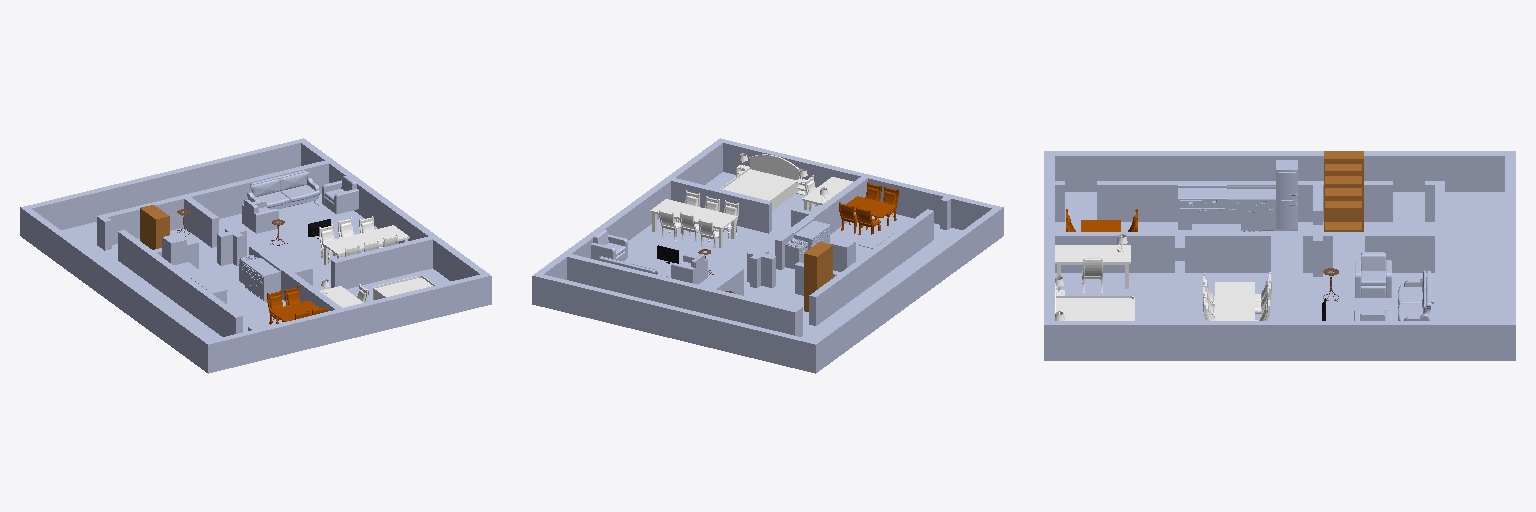
robot.urdf — robocup_at_home_2014_forniture:
<robot
  name="robocup_at_home_2014_forniture">
  <link
    name="floor">
    <inertial>
      <origin
        xyz="0.162043521989853 -0.824999999999998 -0.0005"
        rpy="0 0 0" />
      <mass
        value="12000" />
      <inertia
        ixx="0"
        ixy="0"
        ixz="0"
        iyy="0"
        iyz="0"
        izz="0" />
    </inertial>
    <visual>
      <origin
        xyz="0 0 0"
        rpy="0 0 0" />
      <geometry>
        <mesh
          filename="package://worlds/meshes/floor.STL" />
      </geometry>
      <material
        name="">
        <color
          rgba="0.792156862745098 0.819607843137255 0.933333333333333 0" />
      </material>
    </visual>
    <collision>
      <origin
        xyz="0 0 0"
        rpy="0 0 0" />
      <geometry>
        <mesh
          filename="package://worlds/meshes/floor.STL" />
      </geometry>
    </collision>
  </link>
  <link
    name="walls">
    <inertial>
      <origin
        xyz="4.93251874021475 5.98231263855175 0.75"
        rpy="0 0 0" />
      <mass
        value="18362.2494257509" />
      <inertia
        ixx="1338.4230925041"
        ixy="-4795.96538021434"
        ixz="7.40347261069131E-13"
        iyy="21543.3237199441"
        iyz="1.36168446424772E-13"
        izz="22881.7468124482" />
    </inertial>
    <visual>
      <origin
        xyz="0 0 0"
        rpy="0 0 0" />
      <geometry>
        <mesh
          filename="package://worlds/meshes/walls.STL" />
      </geometry>
      <material
        name="">
        <color
          rgba="0.792156862745098 0.819607843137255 0.933333333333333 1" />
      </material>
    </visual>
    <collision>
      <origin
        xyz="0 0 0"
        rpy="0 0 0" />
      <geometry>
        <mesh
          filename="package://worlds/meshes/walls.STL" />
      </geometry>
    </collision>
  </link>
  <joint
    name="floor_to_walls"
    type="fixed">
    <origin
      xyz="0 0 0"
      rpy="-6.12303176911189E-17 -6.64008986019832E-17 0" />
    <parent
      link="floor" />
    <child
      link="walls" />
    <axis
      xyz="1 0 0" />
  </joint>
  <link
    name="table_kitchen">
    <inertial>
      <origin
        xyz="-0.0148251556201719 -0.0640686794613408 -0.013499228338457"
        rpy="0 0 0" />
      <mass
        value="229.694621201452" />
      <inertia
        ixx="77.7870787047035"
        ixy="-0.00370438522750177"
        ixz="0.115529182972807"
        iyy="94.8341515366611"
        iyz="-0.0114715507568256"
        izz="17.7048609391701" />
    </inertial>
    <visual>
      <origin
        xyz="0 0 0"
        rpy="0 0 0" />
      <geometry>
        <mesh
          filename="package://worlds/meshes/table_kitchen.STL" />
      </geometry>
      <material
        name="">
        <color
          rgba="0.729411764705882 0.356862745098039 0.0235294117647059 1" />
      </material>
    </visual>
    <collision>
      <origin
        xyz="0 0 0"
        rpy="0 0 0" />
      <geometry>
        <mesh
          filename="package://worlds/meshes/table_kitchen.STL" />
      </geometry>
    </collision>
  </link>
  <joint
    name="floor_to_table_kitchen"
    type="fixed">
    <origin
      xyz="-0.949751438553686 -5.28564359643745 0.621914781542176"
      rpy="1.5707963267949 0 0" />
    <parent
      link="floor" />
    <child
      link="table_kitchen" />
    <axis
      xyz="0 0 0" />
  </joint>
  <link
    name="kitchen">
    <inertial>
      <origin
        xyz="-0.70574137773059 0.512853823238402 -0.398295405787052"
        rpy="0 0 0" />
      <mass
        value="508.116360033963" />
      <inertia
        ixx="18.3473653241423"
        ixy="15.0495179789158"
        ixz="3.19407612551288"
        iyy="193.036843322496"
        iyz="-2.15581101360925"
        izz="204.742938750507" />
    </inertial>
    <visual>
      <origin
        xyz="0 0 0"
        rpy="0 0 0" />
      <geometry>
        <mesh
          filename="package://worlds/meshes/kitchen.STL" />
      </geometry>
      <material
        name="">
        <color
          rgba="0.792156862745098 0.819607843137255 0.933333333333333 1" />
      </material>
    </visual>
    <collision>
      <origin
        xyz="0 0 0"
        rpy="0 0 0" />
      <geometry>
        <mesh
          filename="package://worlds/meshes/kitchen.STL" />
      </geometry>
    </collision>
  </link>
  <joint
    name="floor_to_kitchen"
    type="fixed">
    <origin
      xyz="-2.35702717025576 -1.53342788574626 0.00146961956425273"
      rpy="1.5707963267949 6.12303176911189E-17 1.5707963267949" />
    <parent
      link="floor" />
    <child
      link="kitchen" />
    <axis
      xyz="0 0 0" />
  </joint>
  <link
    name="stove">
    <inertial>
      <origin
        xyz="-0.125807232327899 -0.529341793231879 0.346909995659437"
        rpy="0 0 0" />
      <mass
        value="338.969953194765" />
      <inertia
        ixx="9.51826418454612"
        ixy="3.35338405492847"
        ixz="-0.0335039360347909"
        iyy="35.090364871207"
        iyz="-0.843421108291206"
        izz="41.2968594011225" />
    </inertial>
    <visual>
      <origin
        xyz="0 0 0"
        rpy="0 0 0" />
      <geometry>
        <mesh
          filename="package://worlds/meshes/stove.STL" />
      </geometry>
      <material
        name="">
        <color
          rgba="0.792156862745098 0.819607843137255 0.933333333333333 1" />
      </material>
    </visual>
    <collision>
      <origin
        xyz="0 0 0"
        rpy="0 0 0" />
      <geometry>
        <mesh
          filename="package://worlds/meshes/stove.STL" />
      </geometry>
    </collision>
  </link>
  <joint
    name="floor_to_stove"
    type="fixed">
    <origin
      xyz="-0.859599999999999 -2.41046162410305 0.00284738954239289"
      rpy="-1.5707963267949 -6.12303176911189E-17 -1.5707963267949" />
    <parent
      link="floor" />
    <child
      link="stove" />
    <axis
      xyz="0 0 0" />
  </joint>
  <link
    name="bed">
    <inertial>
      <origin
        xyz="-0.0389807110971674 1.24999110394613 0.217593235166563"
        rpy="0 0 0" />
      <mass
        value="1284.07012058501" />
      <inertia
        ixx="2.91492619765083"
        ixy="-0.0392165113524979"
        ixz="-0.67303084509106"
        iyy="1.94339388624748"
        iyz="0.00447094061786035"
        izz="4.21663857517505" />
    </inertial>
    <visual>
      <origin
        xyz="0 0 0"
        rpy="0 0 0" />
      <geometry>
        <mesh
          filename="package://worlds/meshes/bed.STL" />
      </geometry>
      <material
        name="">
        <color
          rgba="1 1 1 1" />
      </material>
    </visual>
    <collision>
      <origin
        xyz="0 0 0"
        rpy="0 0 0" />
      <geometry>
        <mesh
          filename="package://worlds/meshes/bed.STL" />
      </geometry>
    </collision>
  </link>
  <joint
    name="floor_to_bed"
    type="fixed">
    <origin
      xyz="1.86277830721022 -5.45 0.4"
      rpy="3.14159265358979 6.12303176911189E-17 1.5707963267949" />
    <parent
      link="floor" />
    <child
      link="bed" />
    <axis
      xyz="0 1 0" />
  </joint>
  <link
    name="table_bedroom">
    <inertial>
      <origin
        xyz="0.903070609212545 -0.347047940236761 0.0176116422857098"
        rpy="0 0 0" />
      <mass
        value="248.09387619041" />
      <inertia
        ixx="12.7756845132593"
        ixy="0.243026010790977"
        ixz="0.225587694636603"
        iyy="1.23517647716545"
        iyz="-2.66091129310497"
        izz="12.7078603768214" />
    </inertial>
    <visual>
      <origin
        xyz="0 0 0"
        rpy="0 0 0" />
      <geometry>
        <mesh
          filename="package://worlds/meshes/table_bedroom.STL" />
      </geometry>
      <material
        name="">
        <color
          rgba="1 1 1 1" />
      </material>
    </visual>
    <collision>
      <origin
        xyz="0 0 0"
        rpy="0 0 0" />
      <geometry>
        <mesh
          filename="package://worlds/meshes/table_bedroom.STL" />
      </geometry>
    </collision>
  </link>
  <joint
    name="floor_to_table_bedroom"
    type="fixed">
    <origin
      xyz="0.981628405693308 -6.39765151700287 0.660785811957398"
      rpy="3.14159265358979 6.12303176911189E-17 1.5707963267949" />
    <parent
      link="floor" />
    <child
      link="table_bedroom" />
    <axis
      xyz="0 0 0" />
  </joint>
  <link
    name="dining_table">
    <inertial>
      <origin
        xyz="0.594903997665842 0.0701325845541099 0.792631874101851"
        rpy="0 0 0" />
      <mass
        value="538.277321874631" />
      <inertia
        ixx="98.8235057164328"
        ixy="-3.18402560449321"
        ixz="1.61007607284375"
        iyy="195.756335265195"
        iyz="-1.93404161385332"
        izz="99.6542503652822" />
    </inertial>
    <visual>
      <origin
        xyz="0 0 0"
        rpy="0 0 0" />
      <geometry>
        <mesh
          filename="package://worlds/meshes/dining_table.STL" />
      </geometry>
      <material
        name="">
        <color
          rgba="1 1 1 1" />
      </material>
    </visual>
    <collision>
      <origin
        xyz="0 0 0"
        rpy="0 0 0" />
      <geometry>
        <mesh
          filename="package://worlds/meshes/dining_table.STL" />
      </geometry>
    </collision>
  </link>
  <joint
    name="floor_to_dining_table"
    type="fixed">
    <origin
      xyz="2.53152844888534 -2.51892564417824 0.54438823651535"
      rpy="1.5707963267949 6.12303176911189E-17 1.5707963267949" />
    <parent
      link="floor" />
    <child
      link="dining_table" />
    <axis
      xyz="0 0 0" />
  </joint>
  <link
    name="tv">
    <inertial>
      <origin
        xyz="-0.00381588735598393 -0.0269165205802447 -0.0465716969580523"
        rpy="0 0 0" />
      <mass
        value="27.1398882321728" />
      <inertia
        ixx="0.0967935620752383"
        ixy="0.000321473340801921"
        ixz="-0.00153780250420138"
        iyy="0.0121695079590008"
        iyz="-0.010411918508525"
        izz="0.0853653848648628" />
    </inertial>
    <visual>
      <origin
        xyz="0 0 0"
        rpy="0 0 0" />
      <geometry>
        <mesh
          filename="package://worlds/meshes/tv.STL" />
      </geometry>
      <material
        name="">
        <color
          rgba="0.101960784313725 0.101960784313725 0.101960784313725 1" />
      </material>
    </visual>
    <collision>
      <origin
        xyz="0 0 0"
        rpy="0 0 0" />
      <geometry>
        <mesh
          filename="package://worlds/meshes/tv.STL" />
      </geometry>
    </collision>
  </link>
  <joint
    name="floor_to_tv"
    type="fixed">
    <origin
      xyz="3.06538322358296 0.324367105082983 0.313394155058284"
      rpy="1.5707963267949 1.28426249057384E-18 3.120616824622" />
    <parent
      link="floor" />
    <child
      link="tv" />
    <axis
      xyz="0 0 0" />
  </joint>
  <link
    name="flowers_stand">
    <inertial>
      <origin
        xyz="-3.72935779480166E-08 0.413988521834406 -1.66456857186859E-08"
        rpy="0 0 0" />
      <mass
        value="1.08720395820173" />
      <inertia
        ixx="0.000172167308974806"
        ixy="7.35774197925269E-12"
        ixz="-8.84751735757845E-18"
        iyy="2.37713111854124E-17"
        iyz="3.28406676492136E-12"
        izz="0.000172167308974821" />
    </inertial>
    <visual>
      <origin
        xyz="0 0 0"
        rpy="0 0 0" />
      <geometry>
        <mesh
          filename="package://worlds/meshes/flowers_stand.STL" />
      </geometry>
      <material
        name="">
        <color
          rgba="0.517647058823529 0.368627450980392 0.266666666666667 1" />
      </material>
    </visual>
    <collision>
      <origin
        xyz="0 0 0"
        rpy="0 0 0" />
      <geometry>
        <mesh
          filename="package://worlds/meshes/flowers_stand.STL" />
      </geometry>
    </collision>
  </link>
  <joint
    name="floor_to_flowers_stand"
    type="fixed">
    <origin
      xyz="1.65213157434124 0.449378932244354 0.0783325125146509"
      rpy="1.5707963267949 0.0087266462599717 -5.34348887276556E-19" />
    <parent
      link="floor" />
    <child
      link="flowers_stand" />
    <axis
      xyz="0 0 0" />
  </joint>
  <link
    name="flowers_stand2">
    <inertial>
      <origin
        xyz="-3.35088985448095E-08 0.41398852091325 -1.32151480869425E-08"
        rpy="0 0 0" />
      <mass
        value="1.0872039574042" />
      <inertia
        ixx="0.000172167308611359"
        ixy="6.61105304960893E-12"
        ixz="-6.31128654369744E-18"
        iyy="1.84921982069329E-17"
        iyz="2.60724896112829E-12"
        izz="0.000172167308611372" />
    </inertial>
    <visual>
      <origin
        xyz="0 0 0"
        rpy="0 0 0" />
      <geometry>
        <mesh
          filename="package://worlds/meshes/flowers_stand2.STL" />
      </geometry>
      <material
        name="">
        <color
          rgba="0.517647058823529 0.368627450980392 0.266666666666667 1" />
      </material>
    </visual>
    <collision>
      <origin
        xyz="0 0 0"
        rpy="0 0 0" />
      <geometry>
        <mesh
          filename="package://worlds/meshes/flowers_stand2.STL" />
      </geometry>
    </collision>
  </link>
  <joint
    name="floor_to_flowers_stand2"
    type="fixed">
    <origin
      xyz="-0.478721761606623 2.67322706483048 0.0273825524881129"
      rpy="1.5707963267949 0 0" />
    <parent
      link="floor" />
    <child
      link="flowers_stand2" />
    <axis
      xyz="0 0 0" />
  </joint>
  <link
    name="shelf">
    <inertial>
      <origin
        xyz="-0.252066115702482 -0.112197099250249 0.191620265864059"
        rpy="0 0 0" />
      <mass
        value="160.755839999999" />
      <inertia
        ixx="0"
        ixy="0"
        ixz="0"
        iyy="0"
        iyz="0"
        izz="0" />
    </inertial>
    <visual>
      <origin
        xyz="0 0 0"
        rpy="0 0 0" />
      <geometry>
        <mesh
          filename="package://worlds/meshes/shelf.STL" />
      </geometry>
      <material
        name="">
        <color
          rgba="0.729411764705882 0.486274509803922 0.23921568627451 1" />
      </material>
    </visual>
    <collision>
      <origin
        xyz="0 0 0"
        rpy="0 0 0" />
      <geometry>
        <mesh
          filename="package://worlds/meshes/shelf.STL" />
      </geometry>
    </collision>
  </link>
  <joint
    name="floor_to_shelf"
    type="fixed">
    <origin
      xyz="-2.87806106566165 1.01814591053519 1.16297587690176"
      rpy="1.5707963267949 6.12303176911189E-17 1.5707963267949" />
    <parent
      link="floor" />
    <child
      link="shelf" />
    <axis
      xyz="0 0 0" />
  </joint>
  <link
    name="sofa">
    <inertial>
      <origin
        xyz="-5.82880222288473E-06 0.261689541593786 -0.0312733634101008"
        rpy="0 0 0" />
      <mass
        value="734.520017683206" />
      <inertia
        ixx="15.2288481987157"
        ixy="-0.491544473433582"
        ixz="-1.30252621134327"
        iyy="243.42799489864"
        iyz="2.27734558072027"
        izz="242.82771878816" />
    </inertial>
    <visual>
      <origin
        xyz="0 0 0"
        rpy="0 0 0" />
      <geometry>
        <mesh
          filename="package://worlds/meshes/sofa.STL" />
      </geometry>
      <material
        name="">
        <color
          rgba="0.792156862745098 0.819607843137255 0.929411764705882 1" />
      </material>
    </visual>
    <collision>
      <origin
        xyz="0 0 0"
        rpy="0 0 0" />
      <geometry>
        <mesh
          filename="package://worlds/meshes/sofa.STL" />
      </geometry>
    </collision>
  </link>
  <joint
    name="floor_to_sofa"
    type="fixed">
    <origin
      xyz="3.07000641347078 2.59400643553453 0.258421366661373"
      rpy="1.5707963267949 0 0" />
    <parent
      link="floor" />
    <child
      link="sofa" />
    <axis
      xyz="0 0 0" />
  </joint>
  <link
    name="little_sofa">
    <inertial>
      <origin
        xyz="3.07796437226671E-08 -0.315927328673902 0.446093707872459"
        rpy="0 0 0" />
      <mass
        value="432.563537490399" />
      <inertia
        ixx="6.3699100843543"
        ixy="8.38152565810768E-07"
        ixz="-5.8993317674536E-07"
        iyy="2.11025168714083"
        iyz="2.99815798772563"
        izz="4.25965839721379" />
    </inertial>
    <visual>
      <origin
        xyz="0 0 0"
        rpy="0 0 0" />
      <geometry>
        <mesh
          filename="package://worlds/meshes/little_sofa.STL" />
      </geometry>
      <material
        name="">
        <color
          rgba="0.792156862745098 0.819607843137255 0.933333333333333 1" />
      </material>
    </visual>
    <collision>
      <origin
        xyz="0 0 0"
        rpy="0 0 0" />
      <geometry>
        <mesh
          filename="package://worlds/meshes/little_sofa.STL" />
      </geometry>
    </collision>
  </link>
  <joint
    name="floor_to_little_sofa"
    type="fixed">
    <origin
      xyz="4.09550418386854 1.48565692645006 0.248482905796148"
      rpy="-1.5707963267949 -6.12303176911189E-17 -1.5707963267949" />
    <parent
      link="floor" />
    <child
      link="little_sofa" />
    <axis
      xyz="0 0 0" />
  </joint>
  <link
    name="little_sofa_e">
    <inertial>
      <origin
        xyz="3.07796526044513E-08 0.305927328673902 -0.446093707872459"
        rpy="0 0 0" />
      <mass
        value="432.563537490399" />
      <inertia
        ixx="6.36991008435428"
        ixy="-8.38152738266387E-07"
        ixz="5.89933298128145E-07"
        iyy="2.11025168714084"
        iyz="2.99815798772562"
        izz="4.25965839721377" />
    </inertial>
    <visual>
      <origin
        xyz="0 0 0"
        rpy="0 0 0" />
      <geometry>
        <mesh
          filename="package://worlds/meshes/little_sofa_e.STL" />
      </geometry>
      <material
        name="">
        <color
          rgba="0.792156862745098 0.819607843137255 0.933333333333333 1" />
      </material>
    </visual>
    <collision>
      <origin
        xyz="0 0 0"
        rpy="0 0 0" />
      <geometry>
        <mesh
          filename="package://worlds/meshes/little_sofa_e.STL" />
      </geometry>
    </collision>
  </link>
  <joint
    name="floor_to_little_sofa_e"
    type="fixed">
    <origin
      xyz="2.03195556920311 1.50547243191082 0.250575154845565"
      rpy="1.5707963267949 6.12303176911189E-17 1.5707963267949" />
    <parent
      link="floor" />
    <child
      link="little_sofa_e" />
    <axis
      xyz="0 0 0" />
  </joint>
</robot>

--- Render facts (derived) ---
3 views of the same robot in one strip: view 1: azimuth 30°, elevation 25°; view 2: azimuth 150°, elevation 25°; view 3: azimuth 270°, elevation 25° (orthographic).
Robot: robocup_at_home_2014_forniture — 15 links, 14 joints (14 fixed); root link floor; default pose: every joint at zero.
Visible links, largest first — view 1: walls, floor, dining_table, sofa, stove, kitchen, table_kitchen, little_sofa, shelf, little_sofa_e, bed, table_bedroom; view 2: walls, floor, dining_table, bed, table_kitchen, shelf, stove, kitchen, table_bedroom, little_sofa, little_sofa_e; view 3: walls, floor, kitchen, shelf, dining_table, bed, table_bedroom, little_sofa_e, sofa, table_kitchen.
Link boxes in pixels (x1=…): walls: x1=20, y1=138, x2=491, y2=373; floor: x1=42, y1=194, x2=483, y2=367; dining_table: x1=319, y1=216, x2=409, y2=264; sofa: x1=247, y1=170, x2=319, y2=209; stove: x1=239, y1=255, x2=280, y2=301; kitchen: x1=162, y1=233, x2=227, y2=303; table_kitchen: x1=267, y1=286, x2=326, y2=324; little_sofa: x1=322, y1=175, x2=358, y2=213; shelf: x1=140, y1=205, x2=169, y2=249; little_sofa_e: x1=242, y1=200, x2=278, y2=233; bed: x1=373, y1=276, x2=434, y2=299; table_bedroom: x1=320, y1=279, x2=368, y2=307; walls: x1=532, y1=138, x2=1003, y2=373; floor: x1=540, y1=172, x2=981, y2=367; dining_table: x1=650, y1=190, x2=738, y2=249; bed: x1=720, y1=153, x2=807, y2=210; table_kitchen: x1=839, y1=182, x2=898, y2=234; shelf: x1=804, y1=242, x2=832, y2=311; stove: x1=785, y1=218, x2=830, y2=268; kitchen: x1=831, y1=231, x2=893, y2=271; table_bedroom: x1=802, y1=175, x2=852, y2=210; little_sofa: x1=591, y1=229, x2=627, y2=260; little_sofa_e: x1=671, y1=254, x2=707, y2=284; walls: x1=1044, y1=151, x2=1515, y2=360; floor: x1=1055, y1=192, x2=1504, y2=320; kitchen: x1=1178, y1=160, x2=1297, y2=230; shelf: x1=1324, y1=151, x2=1363, y2=231; dining_table: x1=1203, y1=272, x2=1271, y2=320; bed: x1=1055, y1=276, x2=1134, y2=320; table_bedroom: x1=1055, y1=234, x2=1130, y2=292; little_sofa_e: x1=1355, y1=252, x2=1391, y2=297; sofa: x1=1398, y1=270, x2=1433, y2=320; table_kitchen: x1=1066, y1=209, x2=1137, y2=231.
Size in the robot's own frame: 10.25 by 11.75 by 2.04 metres.
15 mesh visuals loaded from 15 distinct referenced files (15 binary STL).